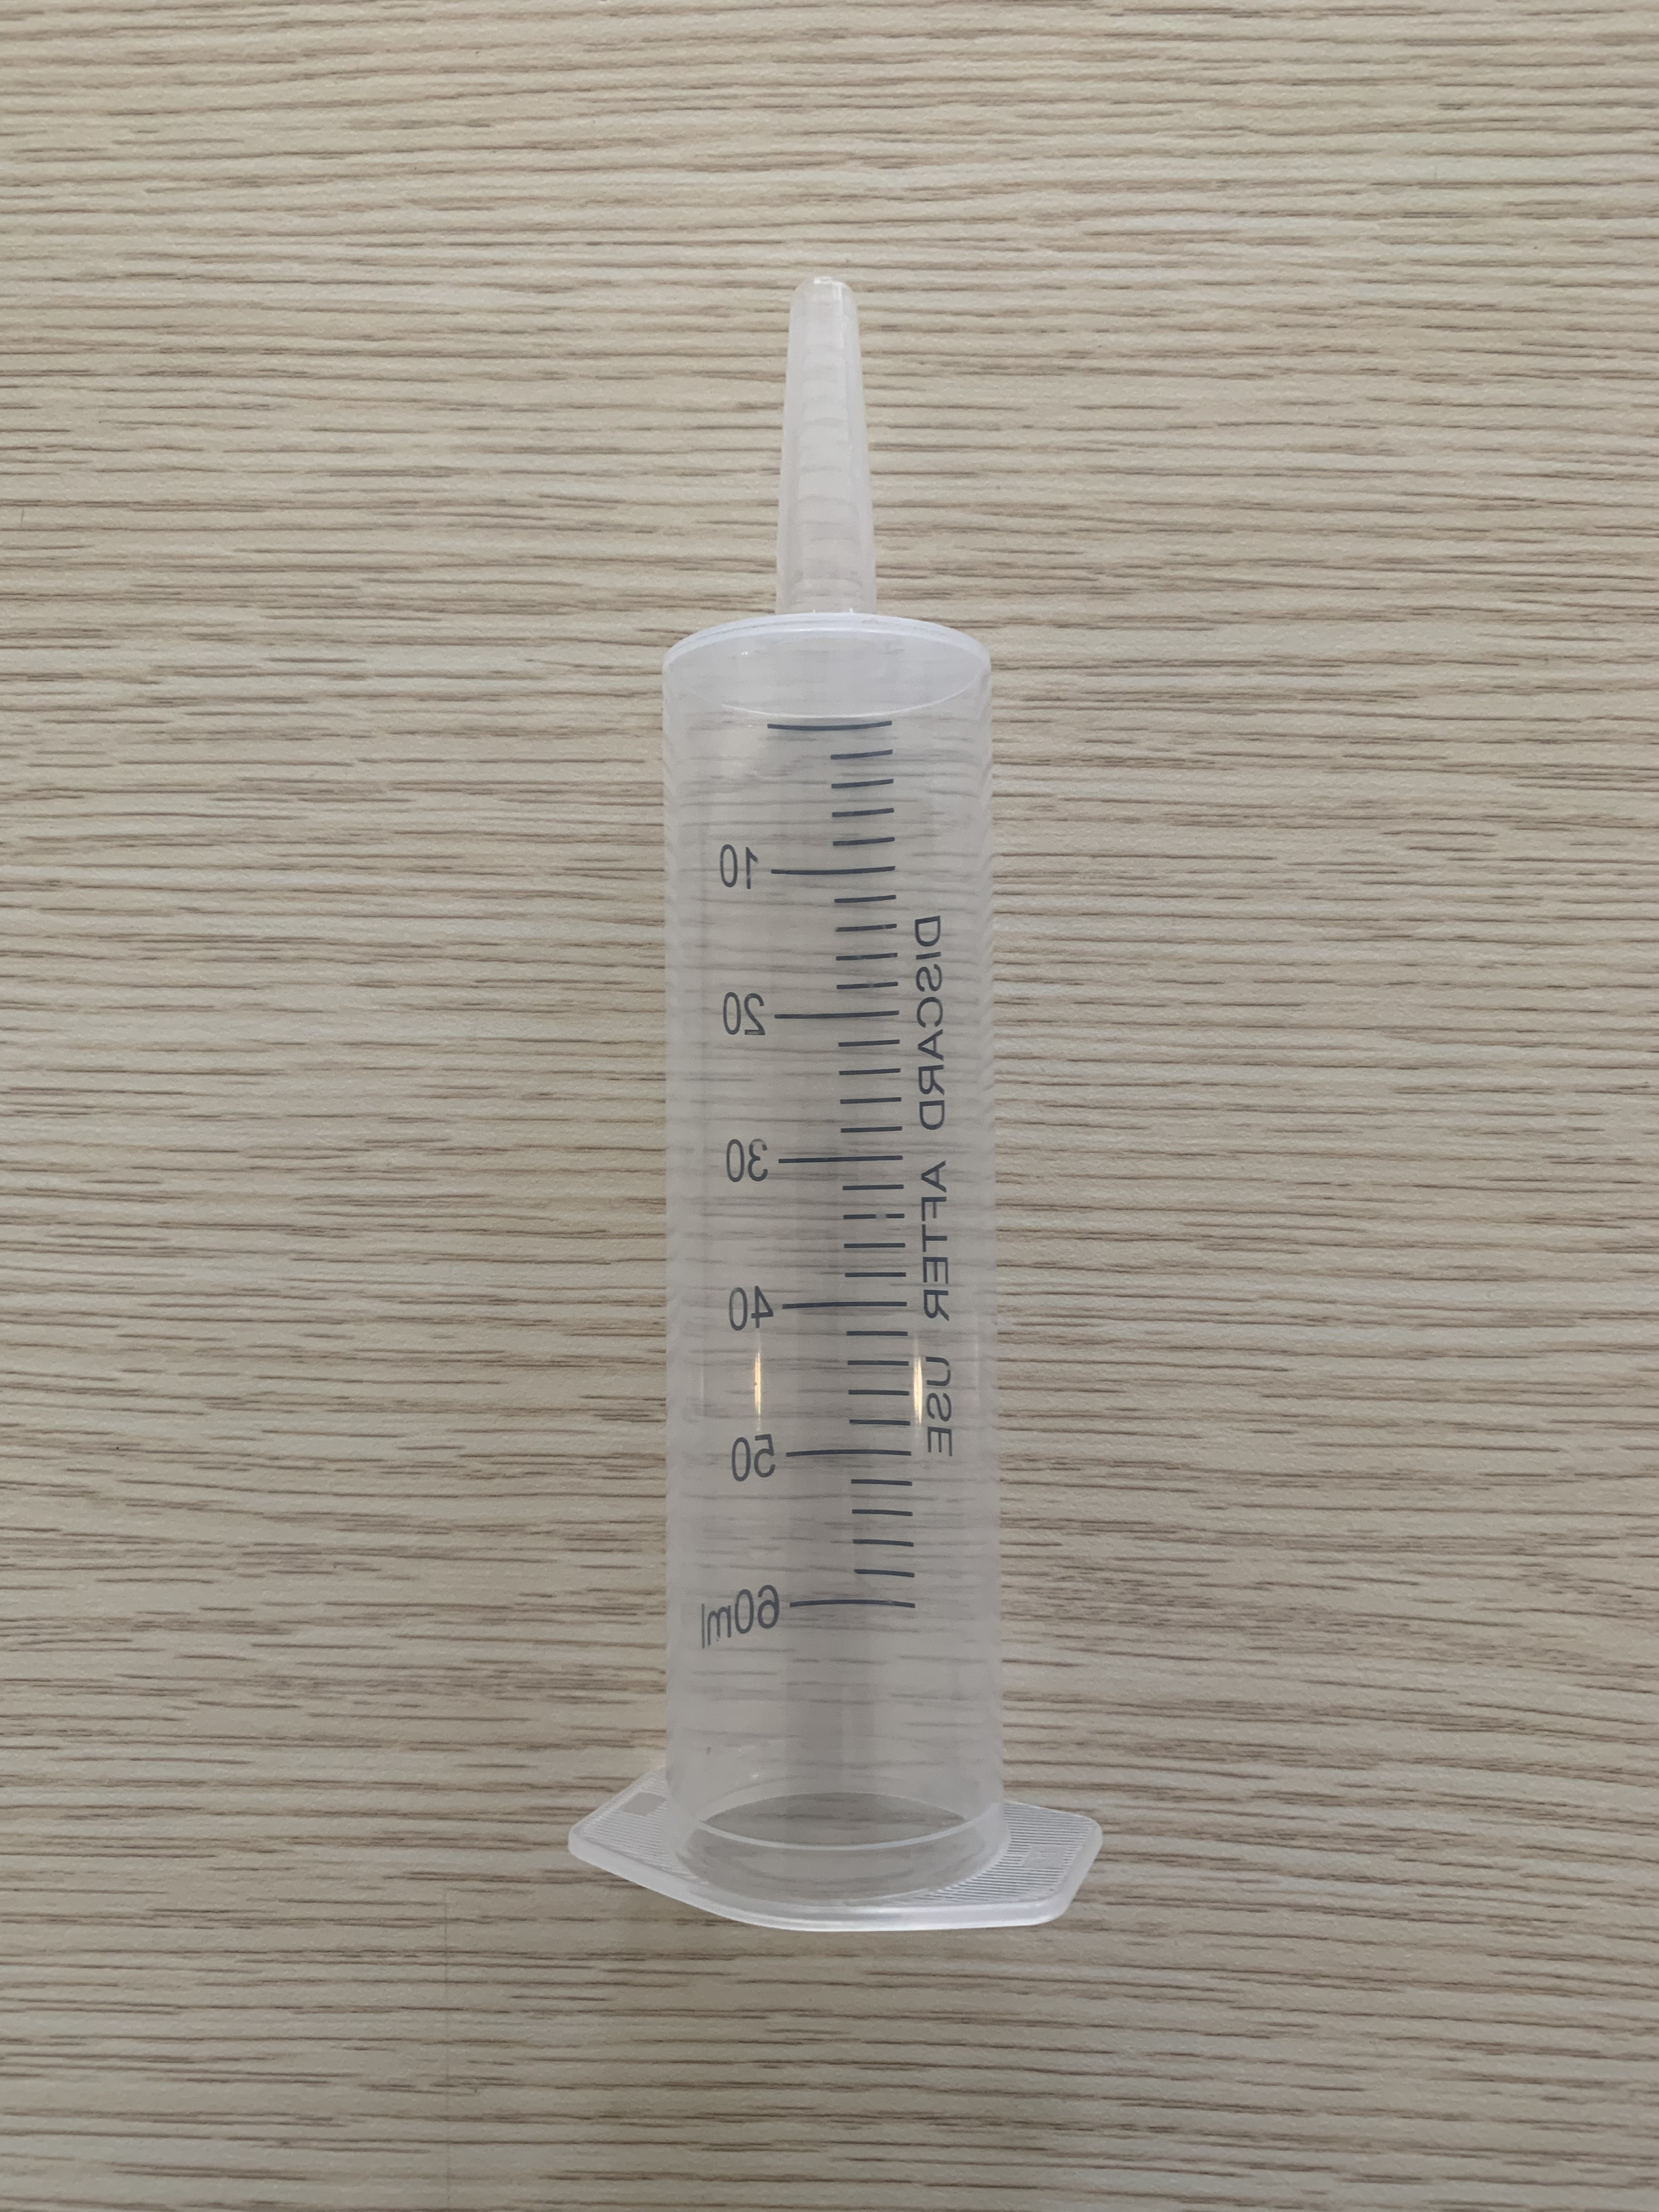syringe: (563, 254, 1124, 1935)
